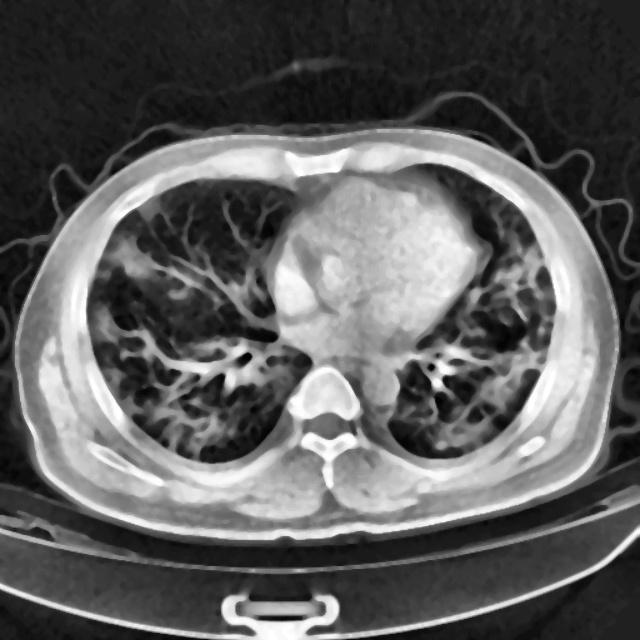covid: (11, 121, 621, 545)
